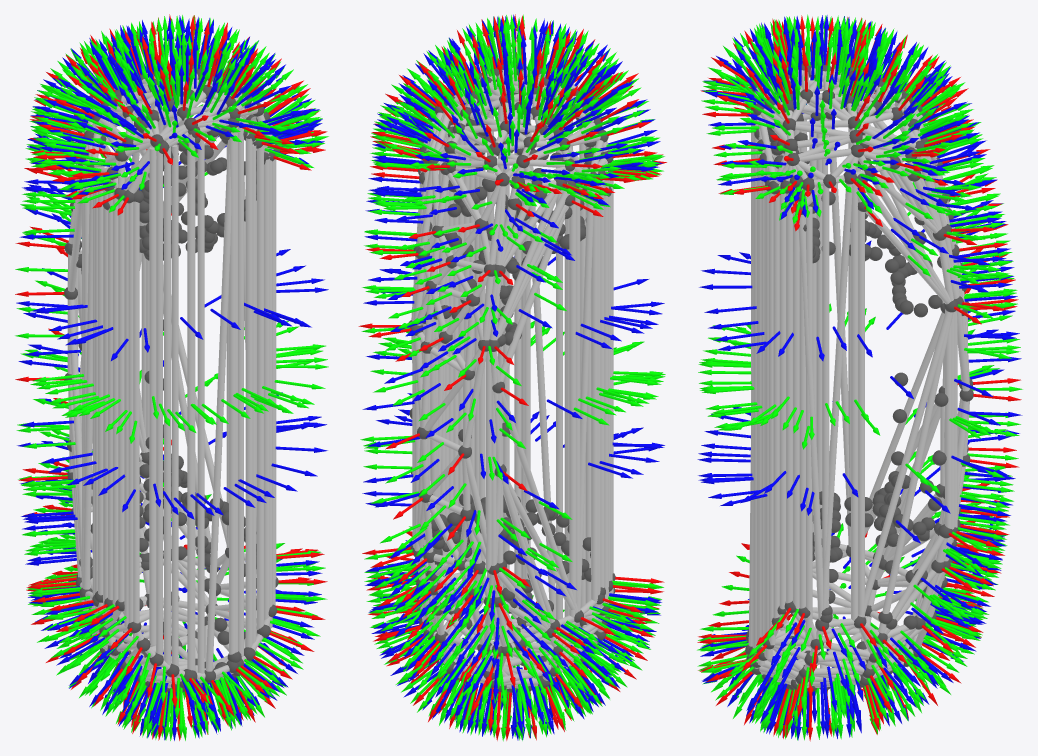
File: flowrep_phone.gltf
3 renders of one model, left to right at view 1: azimuth 30°, elevation 25°; view 2: azimuth 150°, elevation 25°; view 3: azimuth 270°, elevation 25°, orthographic.
Bounding box in the file's own units: 0.4231 × 1.07 × 0.4578.
